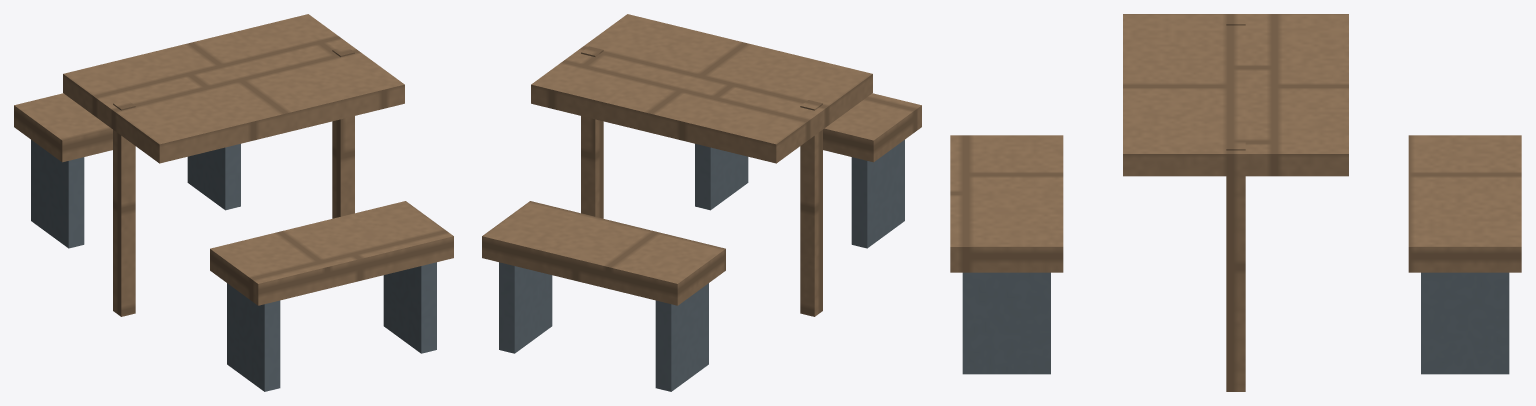
Rendered from q01-cafe-table.glb.
3 renders of one model, left to right at view 1: azimuth 30°, elevation 25°; view 2: azimuth 150°, elevation 25°; view 3: azimuth 270°, elevation 25°, orthographic. The views are drawn at different scales.
Size of the model in its own units: 0.94 by 0.76 by 1.62.
2 materials, 2 textured.
